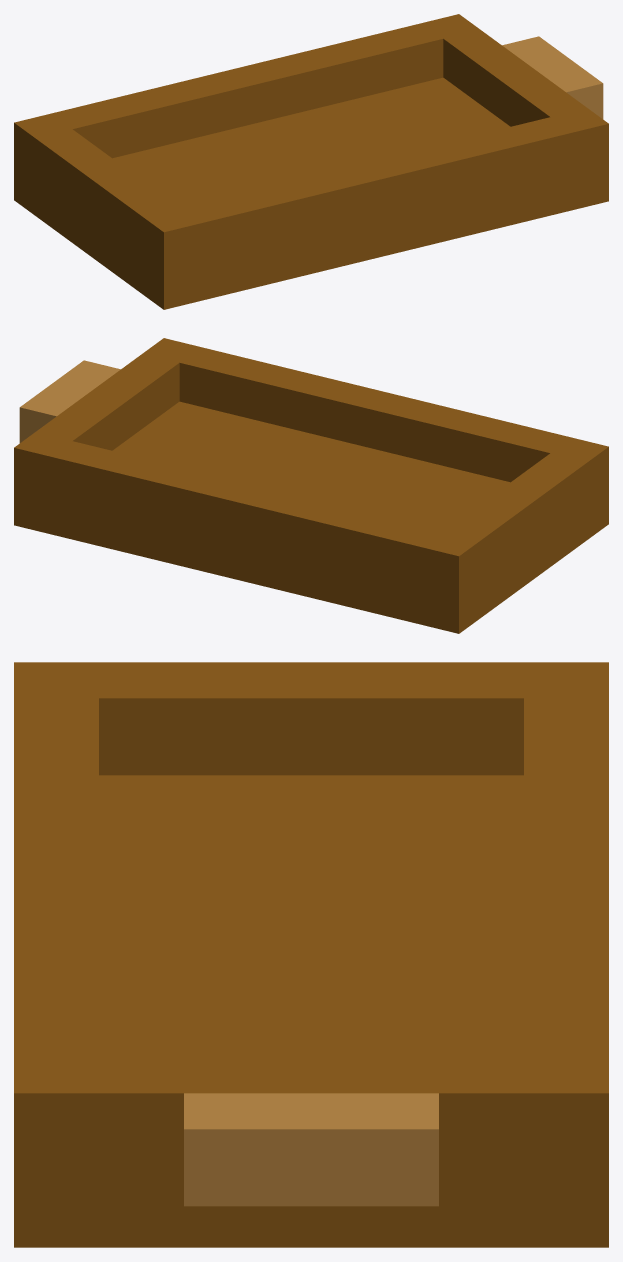
The model's file is Cabinet00-drawer0.gltf.
3 renders of one model, top to bottom at view 1: azimuth 30°, elevation 25°; view 2: azimuth 150°, elevation 25°; view 3: azimuth 270°, elevation 25°, orthographic. The views are drawn at different scales.
Visible parts, largest first — view 1: Layer.1; view 2: Layer.1; view 3: Layer.1.
Part boxes in pixels (<box>): Layer.1: <box>14,14,608,309</box>; Layer.1: <box>14,338,608,633</box>; Layer.1: <box>14,662,608,1247</box>.
Size of the model in its own units: 13 by 2 by 7.
